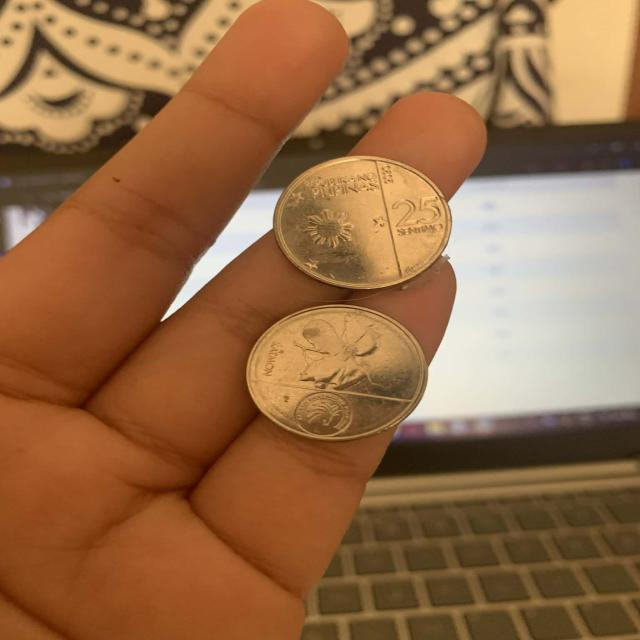25 cents: (267, 151, 461, 296), (246, 304, 433, 450)
